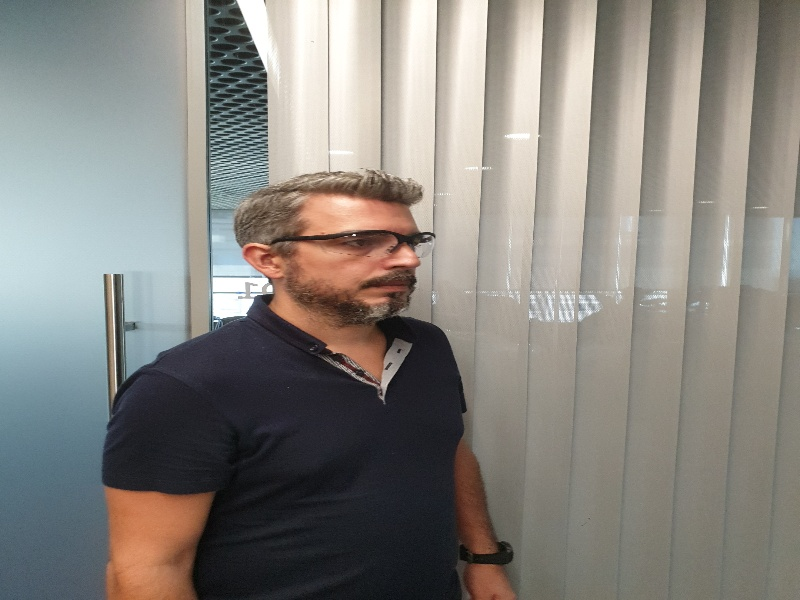Gozluk: (271, 230, 435, 254)
